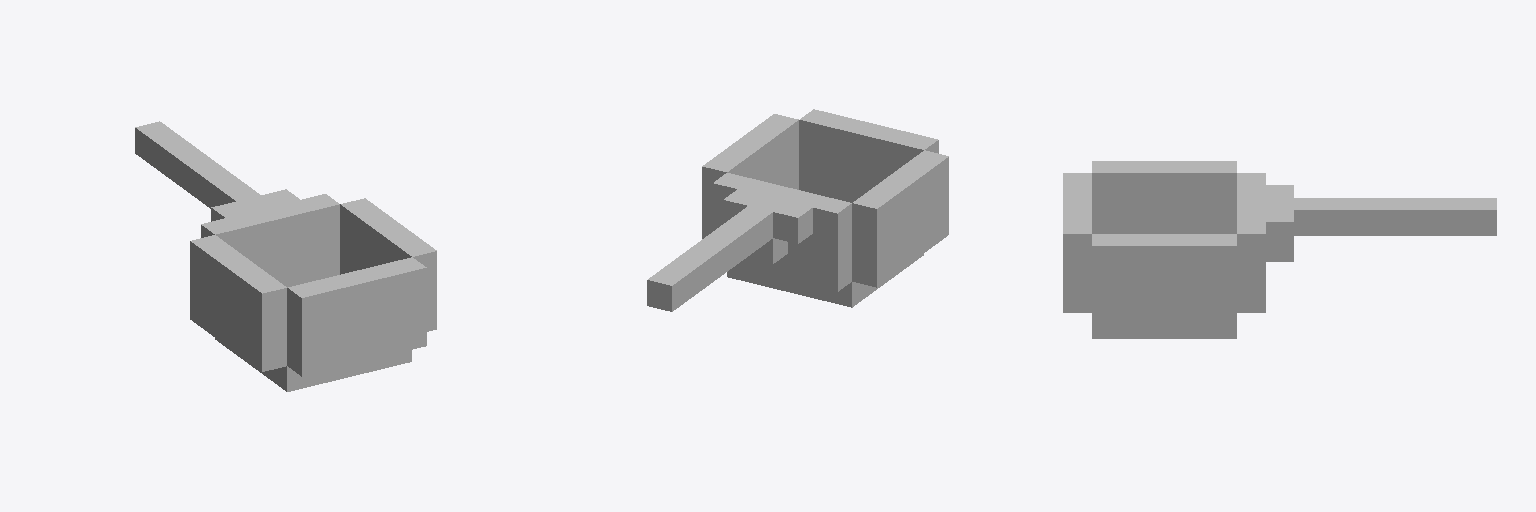
File: cooking pot 2.obj
The picture shows the model from 3 angles: view 1: azimuth 30°, elevation 25°; view 2: azimuth 150°, elevation 25°; view 3: azimuth 270°, elevation 25°; orthographic projection.
Visible parts, largest first — view 1: cooking pot 2; view 2: cooking pot 2; view 3: cooking pot 2.
Part boxes in pixels (left/top/right/bottom): cooking pot 2: left=135, top=121, right=436, bottom=391; cooking pot 2: left=647, top=109, right=948, bottom=311; cooking pot 2: left=1063, top=161, right=1496, bottom=338.
Size of the model in its own units: 7 by 4 by 15.